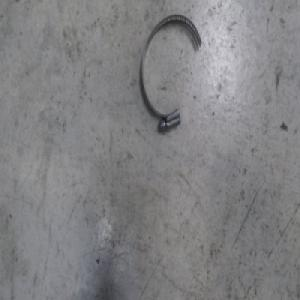AdjustableClamp: (139, 13, 202, 132)
